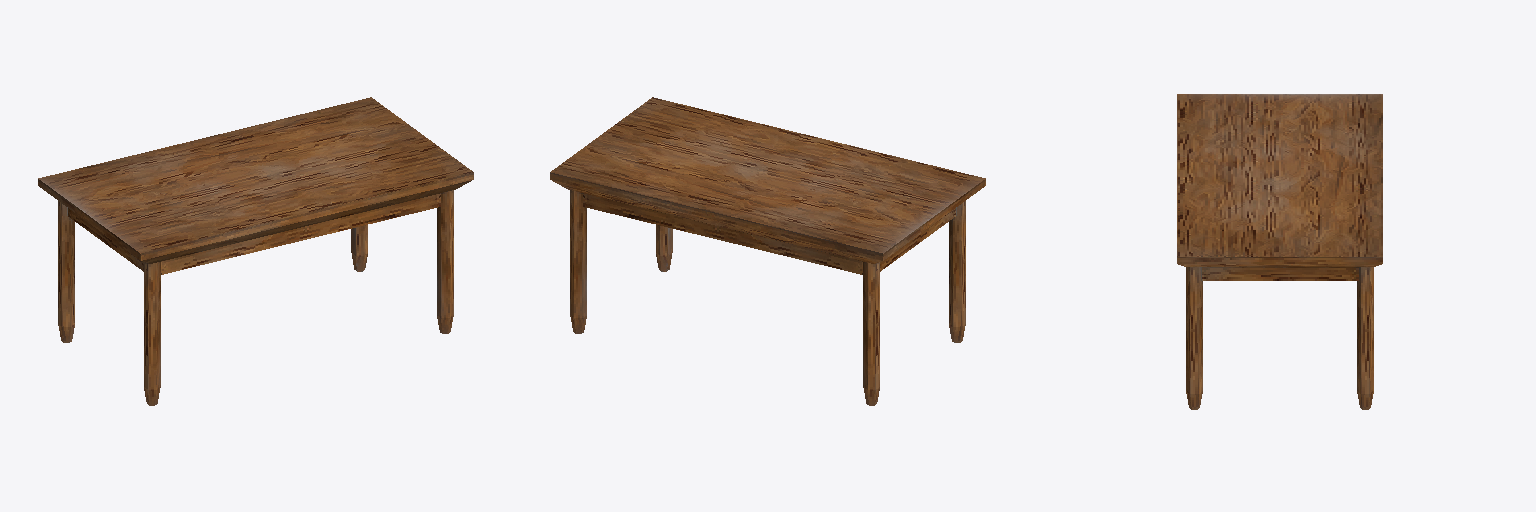
3 views of the same model, side by side, from view 1: azimuth 30°, elevation 25°; view 2: azimuth 150°, elevation 25°; view 3: azimuth 270°, elevation 25° (orthographic).
Parts seen in each view (by area): view 1: SM_Table; view 2: SM_Table; view 3: SM_Table.
Boxes of the visible parts, <box> form: SM_Table: <box>38,97,473,405</box>; SM_Table: <box>550,97,985,405</box>; SM_Table: <box>1177,94,1382,409</box>.
Size of the model in its own units: 2.09 by 0.9641 by 1.11.
1 materials, 1 textured.